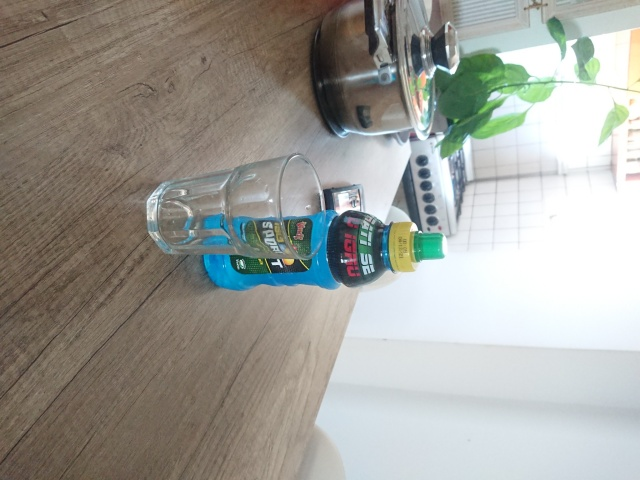Vindi Iso Sport Forest Strawberries 500mL: (199, 207, 450, 291)
